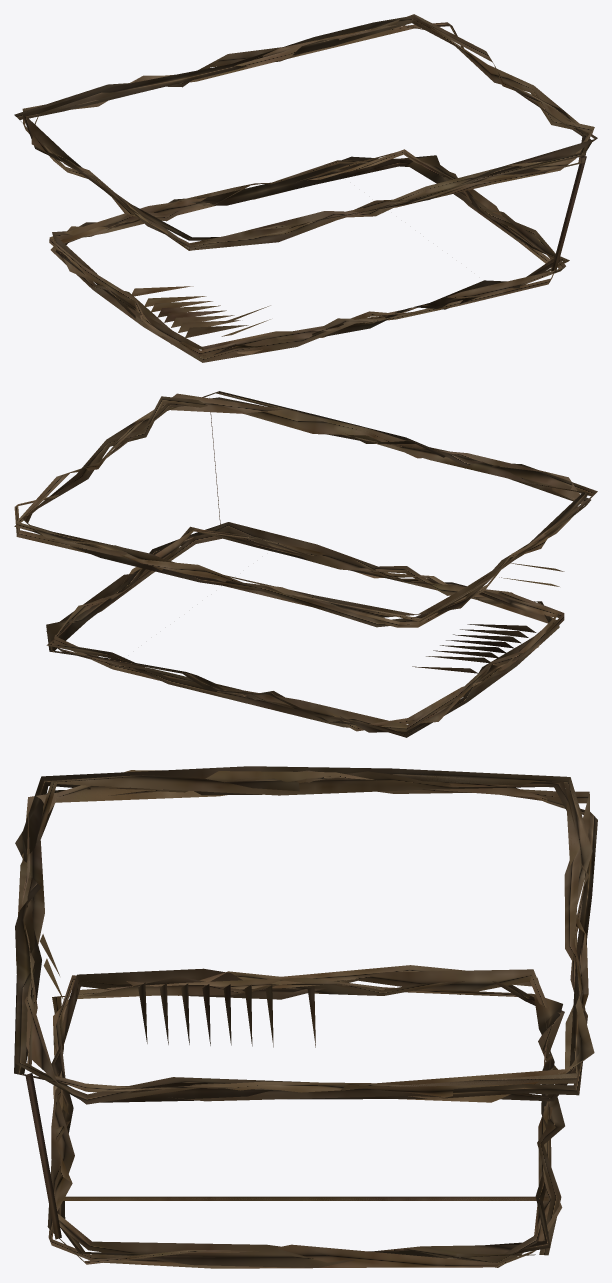
Rendered from basket.glb.
3 renders of one model, top to bottom at view 1: azimuth 30°, elevation 25°; view 2: azimuth 150°, elevation 25°; view 3: azimuth 270°, elevation 25°, orthographic. The views are drawn at different scales.
Parts seen in each view (by area): view 1: wicker_basket_01; view 2: wicker_basket_01; view 3: wicker_basket_01.
Boxes of the visible parts, bbox=[...] form: wicker_basket_01: bbox=[14, 14, 597, 362]; wicker_basket_01: bbox=[14, 391, 597, 737]; wicker_basket_01: bbox=[14, 766, 597, 1268].
Bounding box in the file's own units: 0.38 × 0.1171 × 0.2927.
Materials: 1 (1 with a texture image).
